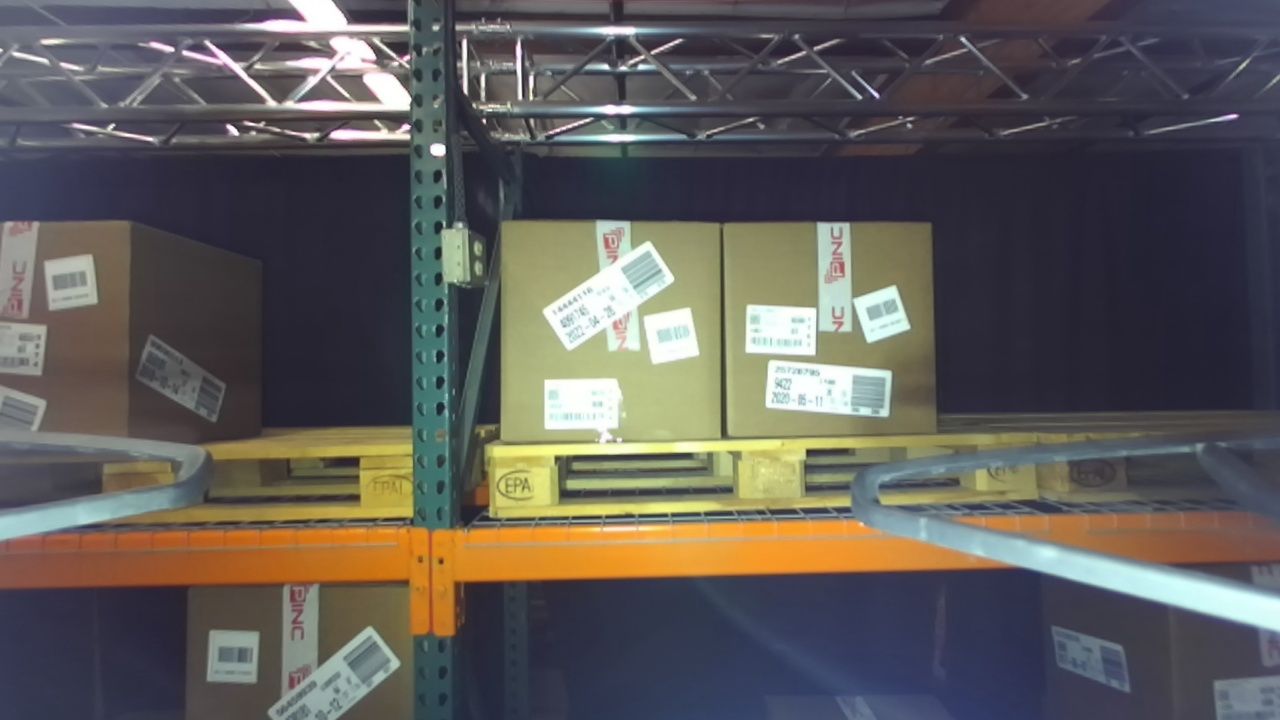box: (475, 189, 748, 471), (700, 187, 950, 468), (1, 207, 153, 464)
